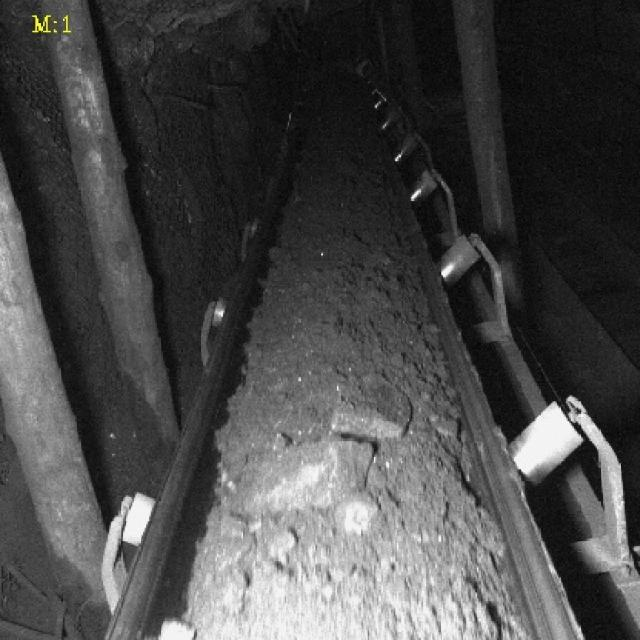large_sized_coal: (226, 440, 380, 515), (328, 386, 410, 439)
